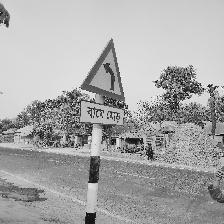Left-Turn: (78, 39, 127, 127)
